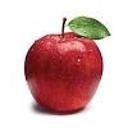apple: (22, 33, 104, 113)
